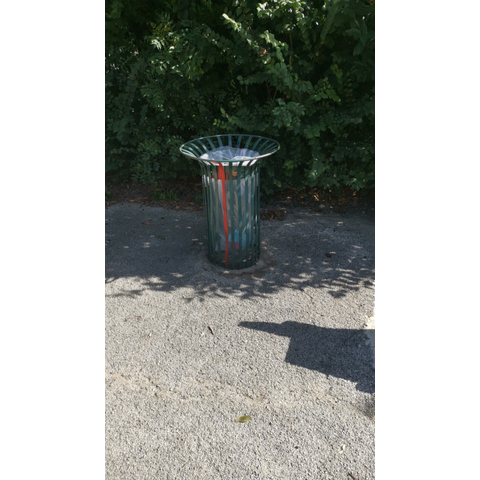poubelle: (178, 125, 299, 278)
